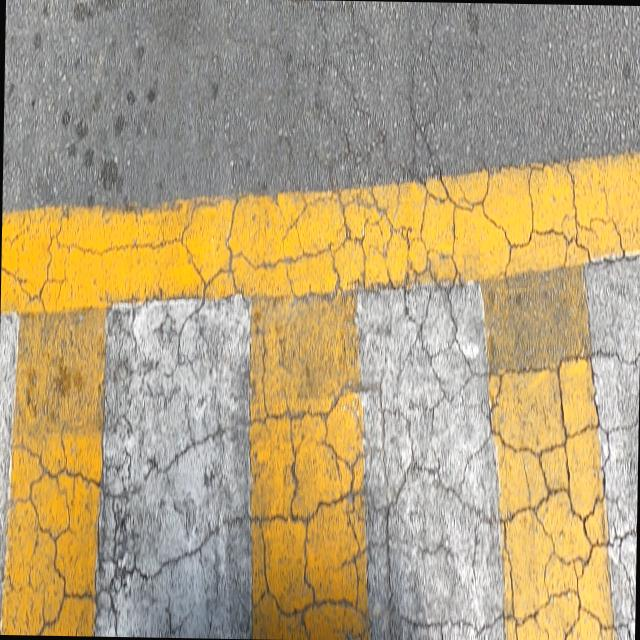Retak-Buaya: (0, 152, 638, 640)
